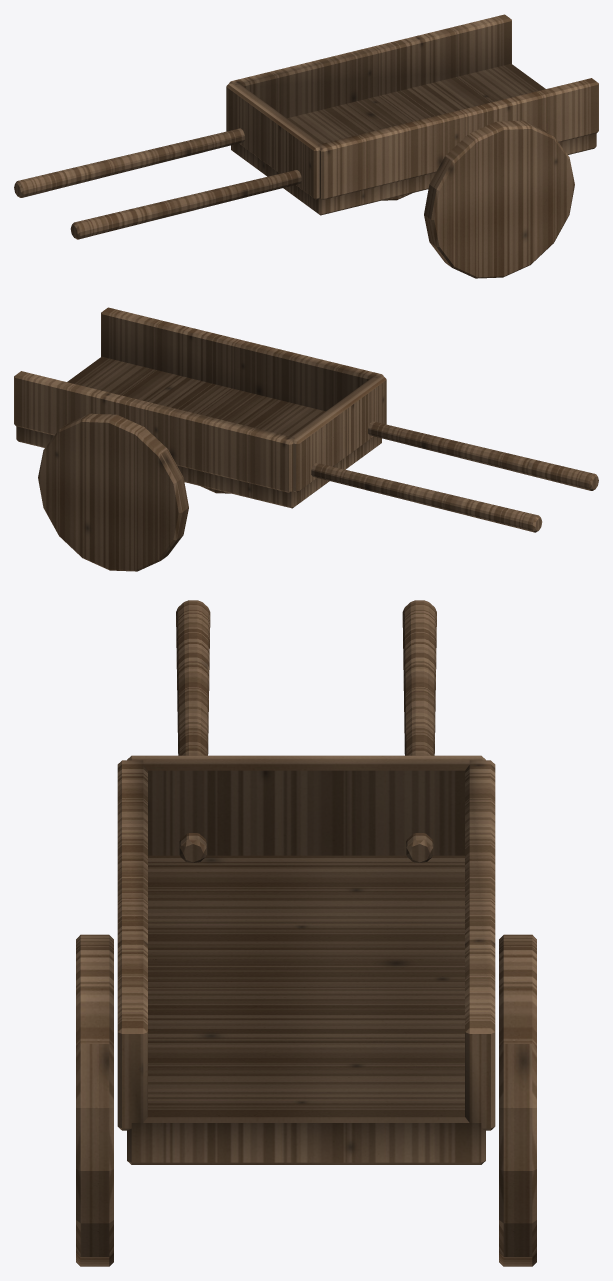
The model's file is p_cart.glb.
The picture shows the model from 3 angles, top to bottom: view 1: azimuth 30°, elevation 25°; view 2: azimuth 150°, elevation 25°; view 3: azimuth 270°, elevation 25°; orthographic projection. The views are drawn at different scales.
Parts seen in each view (by area): view 1: cart; view 2: cart; view 3: cart.
Part boxes in pixels (box(x1,y1,x2,y2)): cart: box(14, 14, 598, 278); cart: box(14, 307, 598, 571); cart: box(76, 600, 536, 1266).
Bounding box in the file's own units: 3.1 × 0.95 × 1.22.
1 material, 1 textured.
